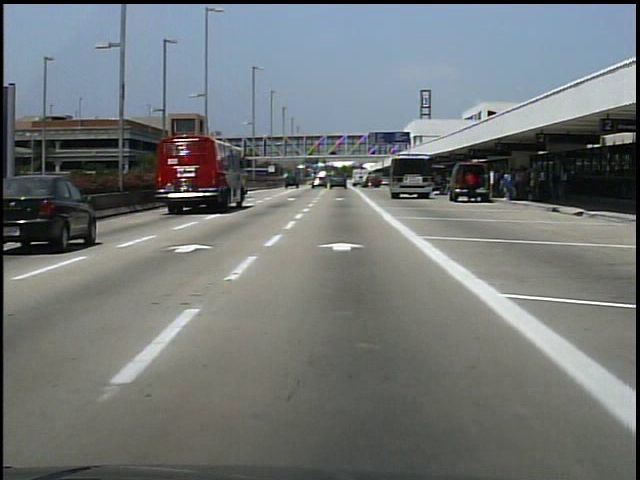person: (464, 165, 481, 204)
